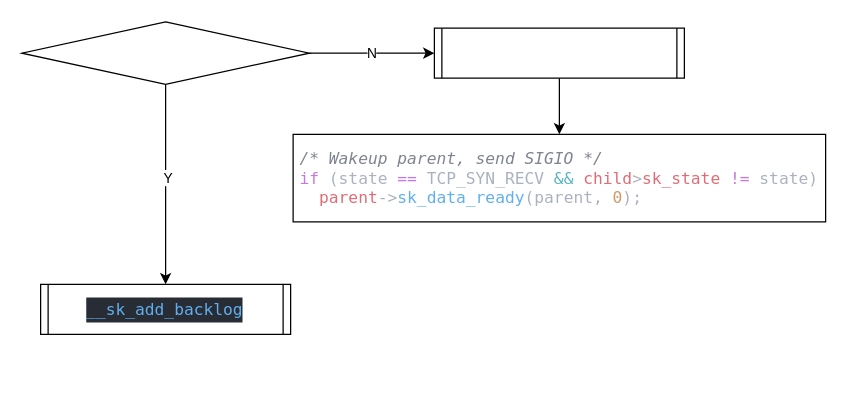
The diagram is 848 pixels wide and 406 high, and some of its shapes have lost their labels. Each missing label, with the box of its shape:
!sock_owned_by_user (child): (21, 21, 309, 84)
tcp_rcv_state_process: (433, 27, 684, 78)
